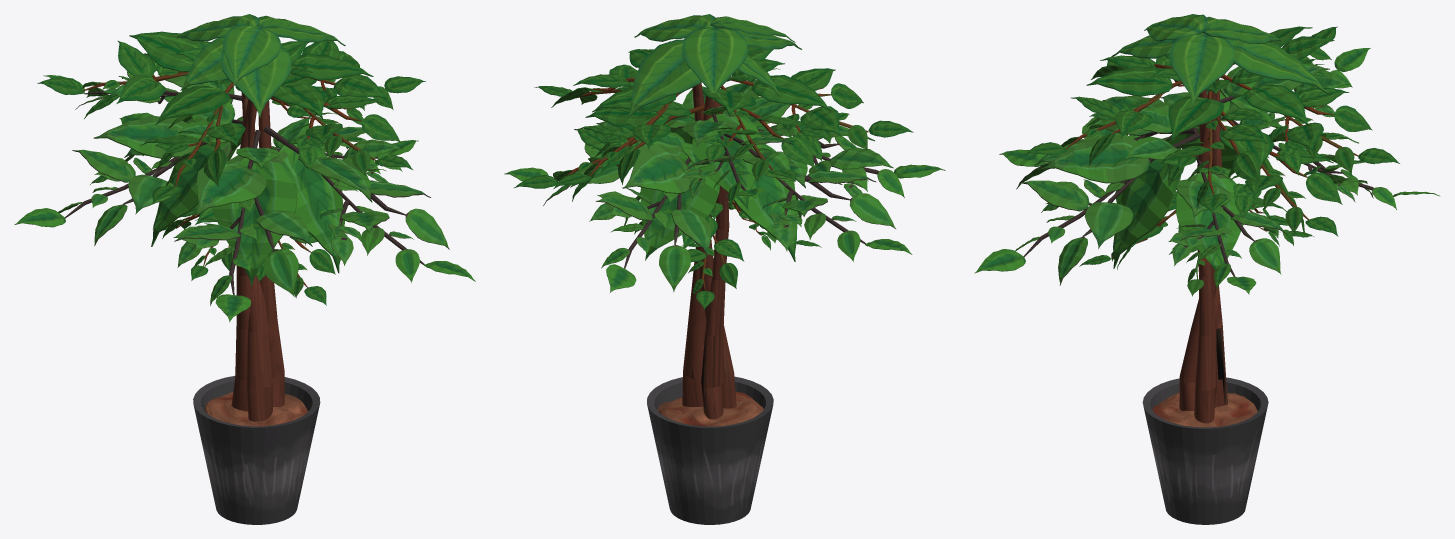
The model's file is Plant.fbx.
3 views of the same model, side by side, from view 1: azimuth 30°, elevation 25°; view 2: azimuth 150°, elevation 25°; view 3: azimuth 270°, elevation 25° (orthographic).
Parts seen in each view (by area): view 1: TwigAlt.002, Pot, TwigAlt.003, TwigAlt.001, Twig.010, Twig.007, Twig.005, Twig.009, Root1, Leaf.006, Root3, TwigAlt.004 (+11 smaller); view 2: Pot, TwigAlt, TwigAlt.001, Twig.005, Twig.006, TwigAlt.002, Twig.010, Root3, Twig.008, Twig.011, Leaf.005, Leaf.001 (+11 smaller); view 3: TwigAlt.003, Pot, TwigAlt.004, Twig.008, Twig.009, Twig.011, Twig.007, Root2, Leaf.002, TwigAlt.002, Twig.006, Leaf.001 (+12 smaller).
Part boxes in pixels (left/top/right/bottom): TwigAlt.002: left=173, top=130, right=312, bottom=321; Pot: left=193, top=376, right=320, bottom=524; TwigAlt.003: left=263, top=126, right=475, bottom=282; TwigAlt.001: left=14, top=115, right=231, bottom=246; Twig.010: left=37, top=31, right=204, bottom=118; Twig.007: left=272, top=64, right=412, bottom=176; Twig.005: left=140, top=79, right=245, bottom=204; Twig.009: left=281, top=40, right=425, bottom=125; Root1: left=241, top=92, right=272, bottom=421; Leaf.006: left=222, top=24, right=280, bottom=86; Root3: left=231, top=99, right=256, bottom=411; TwigAlt.004: left=271, top=117, right=418, bottom=182; Pot: left=647, top=376, right=773, bottom=524; TwigAlt: left=589, top=142, right=719, bottom=292; TwigAlt.001: left=734, top=130, right=912, bottom=261; Twig.005: left=731, top=59, right=913, bottom=161; Twig.006: left=681, top=106, right=793, bottom=211; TwigAlt.002: left=745, top=102, right=945, bottom=223; Twig.010: left=702, top=76, right=815, bottom=182; Root3: left=701, top=101, right=729, bottom=419; Twig.008: left=553, top=85, right=681, bottom=188; Twig.011: left=514, top=101, right=704, bottom=201; Leaf.005: left=682, top=27, right=747, bottom=101; Leaf.001: left=627, top=39, right=701, bottom=119; TwigAlt.003: left=974, top=132, right=1200, bottom=285; Pot: left=1142, top=377, right=1268, bottom=524; TwigAlt.004: left=1168, top=156, right=1286, bottom=294; Twig.008: left=1221, top=69, right=1399, bottom=175; Twig.009: left=1159, top=79, right=1267, bottom=213; Twig.011: left=1219, top=108, right=1342, bottom=236; Twig.007: left=1024, top=66, right=1182, bottom=166; Root2: left=1194, top=79, right=1219, bottom=423; Leaf.002: left=1169, top=33, right=1234, bottom=105; TwigAlt.002: left=999, top=95, right=1197, bottom=203; Twig.006: left=1220, top=48, right=1370, bottom=127; Leaf.001: left=1224, top=38, right=1327, bottom=94.
Size of the model in its own units: 737 by 852 by 741.
